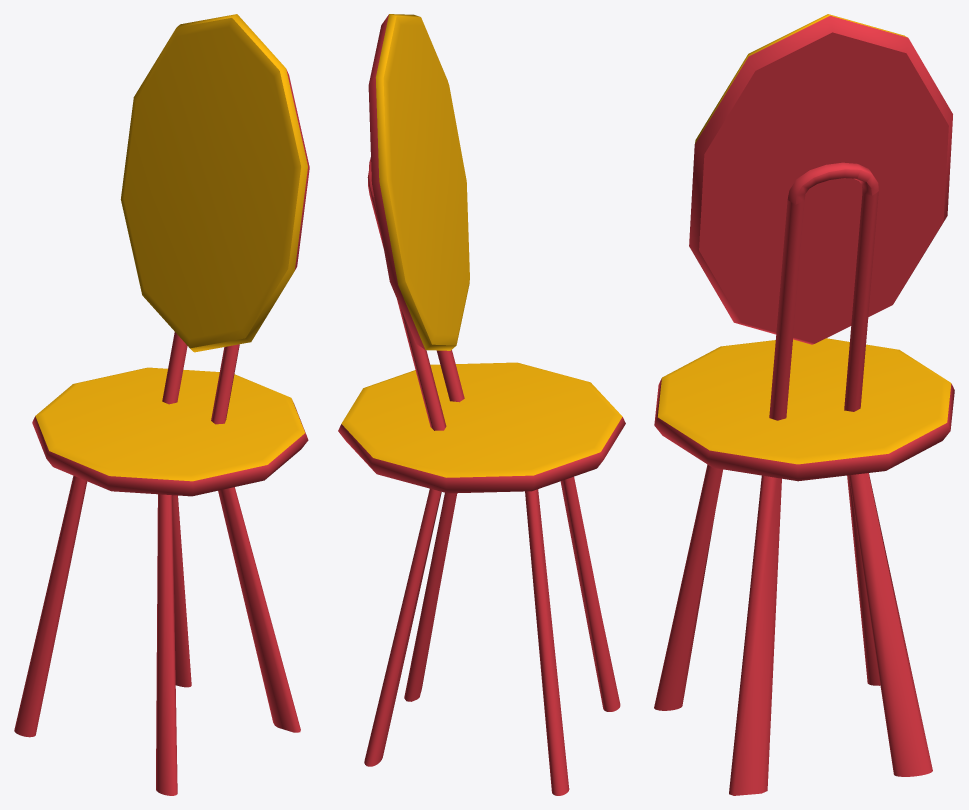
File: SM_Chaire4.fbx
The picture shows the model from 3 angles, left to right: view 1: azimuth 30°, elevation 25°; view 2: azimuth 150°, elevation 25°; view 3: azimuth 270°, elevation 25°; orthographic projection. The views are drawn at different scales.
Visible parts, largest first — view 1: SM_Chaire4; view 2: SM_Chaire4; view 3: SM_Chaire4.
Boxes of the visible parts, x1,y1,x2,y2 form: SM_Chaire4: (14,14,309,795); SM_Chaire4: (338,14,625,795); SM_Chaire4: (654,14,954,795).
Size of the model in its own units: 41.46 by 113 by 40.02.
